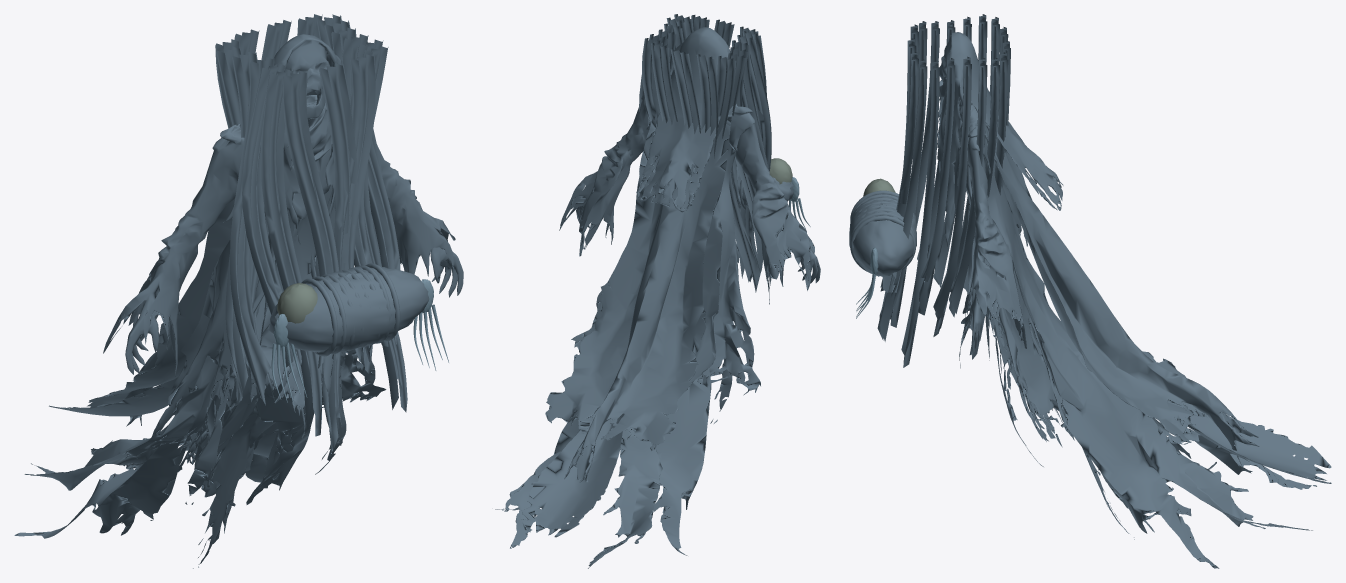
File: 04-the-widow-s-shack.glb
3 views of the same model, side by side, from view 1: azimuth 30°, elevation 25°; view 2: azimuth 150°, elevation 25°; view 3: azimuth 270°, elevation 25° (orthographic). The views are drawn at different scales.
Parts seen in each view (by area): view 1: sculpt (×5); view 2: sculpt (×3); view 3: sculpt (×2).
Boxes of the visible parts, <box> form: sculpt (×5): <box>14,14,463,568</box>; sculpt (×3): <box>495,14,820,568</box>; sculpt (×2): <box>849,14,1331,568</box>.
Size of the model in its own units: 1.94 by 3.29 by 2.85.
